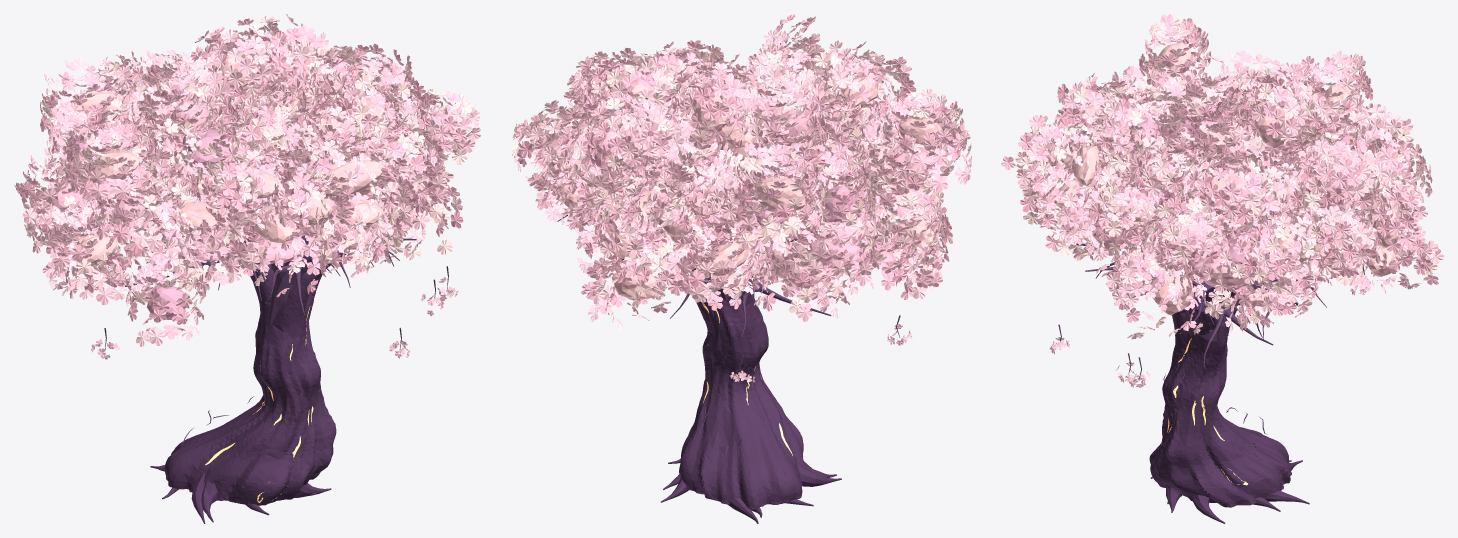
File: sakura_hero.glb
The picture shows the model from 3 angles, left to right: view 1: azimuth 30°, elevation 25°; view 2: azimuth 150°, elevation 25°; view 3: azimuth 270°, elevation 25°; orthographic projection. The views are drawn at different scales.
Visible parts, largest first — view 1: Sakura_petal_pink, Sakura_petal_blush, Trunk_bark_plumblack, Sakura_petal_warm_rose, Sakura_petal_cream, Canopy_peach, Canopy_rose, Branches_plum, Canopy_depth_rose; view 2: Sakura_petal_pink, Sakura_petal_blush, Trunk_bark_plumblack, Sakura_petal_warm_rose, Sakura_petal_cream, Canopy_peach, Canopy_rose, Branches_plum, Canopy_depth_rose; view 3: Sakura_petal_pink, Sakura_petal_blush, Trunk_bark_plumblack, Sakura_petal_warm_rose, Sakura_petal_cream, Canopy_peach, Branches_plum, Canopy_rose, Canopy_depth_rose.
Boxes of the visible parts, x1,y1,x2,y2 form: Sakura_petal_pink: (14, 14, 471, 358); Sakura_petal_blush: (20, 23, 481, 359); Trunk_bark_plumblack: (150, 232, 349, 523); Sakura_petal_warm_rose: (26, 18, 468, 339); Sakura_petal_cream: (24, 15, 472, 315); Canopy_peach: (61, 55, 419, 281); Canopy_rose: (49, 52, 452, 263); Branches_plum: (103, 235, 448, 450); Canopy_depth_rose: (66, 89, 303, 319); Sakura_petal_pink: (514, 20, 970, 382); Sakura_petal_blush: (518, 23, 972, 382); Trunk_bark_plumblack: (661, 234, 841, 523); Sakura_petal_warm_rose: (515, 14, 967, 311); Sakura_petal_cream: (510, 28, 962, 321); Canopy_peach: (546, 66, 942, 299); Canopy_rose: (587, 110, 937, 268); Branches_plum: (557, 215, 900, 463); Canopy_depth_rose: (582, 73, 907, 225); Sakura_petal_pink: (1001, 25, 1438, 387); Sakura_petal_blush: (1015, 18, 1443, 387); Trunk_bark_plumblack: (1149, 284, 1309, 523); Sakura_petal_warm_rose: (1018, 14, 1432, 330); Sakura_petal_cream: (1018, 18, 1437, 339); Canopy_peach: (1046, 42, 1398, 315); Branches_plum: (1058, 243, 1364, 460); Canopy_rose: (1092, 86, 1348, 287); Canopy_depth_rose: (1121, 103, 1359, 278).
Size of the model in its own units: 26.45 by 27 by 25.94.
